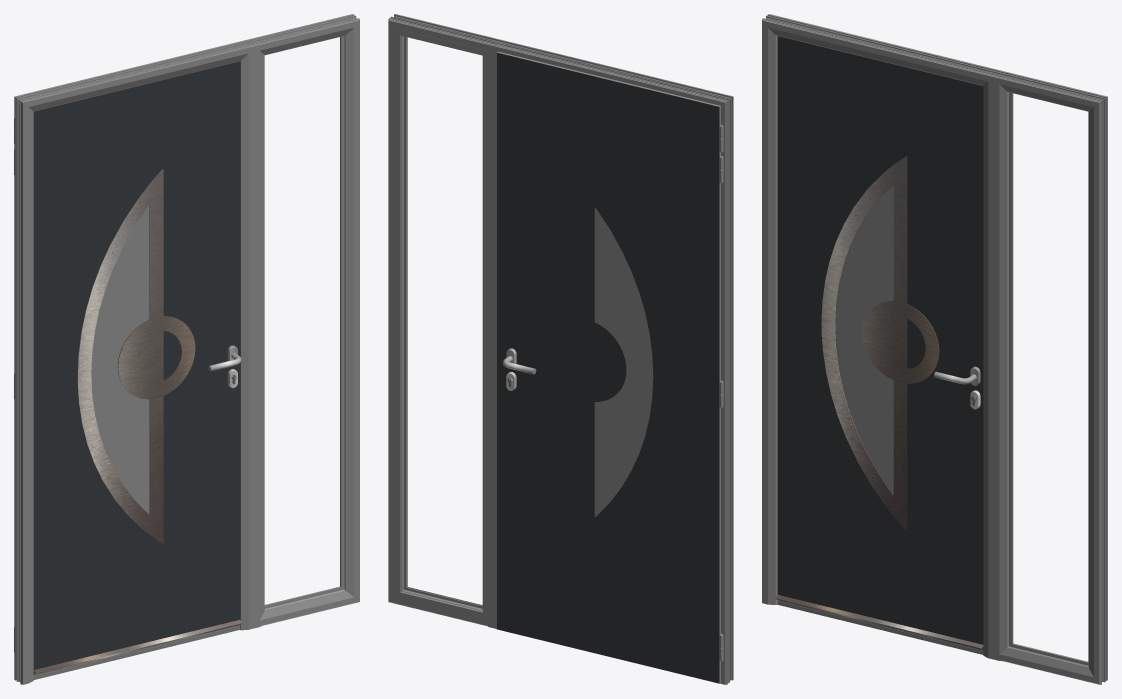
The picture shows the model from 3 angles, left to right: view 1: azimuth 30°, elevation 25°; view 2: azimuth 150°, elevation 25°; view 3: azimuth 330°, elevation 25°; orthographic projection.
Visible parts, largest first — view 1: bloco_158, Rectangle002, Line004, alunox_094, Vidro Porta, Object, Object001, Line005, Rectangle005, Rectangle003; view 2: bloco_158, Rectangle002, Vidro Porta, Rectangle003, Line004, Object001, Rectangle004, Object; view 3: bloco_158, Rectangle002, Line004, alunox_094, Vidro Porta, Object001, Object, Line005, Rectangle003, Rectangle005.
Boxes of the visible parts, bbox=[...] form: bloco_158: bbox=[33, 61, 240, 671]; Rectangle002: bbox=[14, 14, 359, 684]; Line004: bbox=[240, 46, 264, 630]; alunox_094: bbox=[77, 169, 195, 543]; Vidro Porta: bbox=[91, 205, 149, 513]; Object: bbox=[33, 35, 346, 680]; Object001: bbox=[264, 36, 344, 608]; Line005: bbox=[33, 620, 242, 674]; Rectangle005: bbox=[33, 625, 240, 679]; Rectangle003: bbox=[264, 37, 340, 605]; bloco_158: bbox=[497, 52, 719, 683]; Rectangle002: bbox=[388, 14, 733, 684]; Vidro Porta: bbox=[594, 207, 653, 516]; Rectangle003: bbox=[394, 28, 487, 619]; Line004: bbox=[488, 41, 504, 628]; Object001: bbox=[401, 36, 482, 610]; Rectangle004: bbox=[496, 51, 720, 683]; Object: bbox=[404, 36, 482, 608]; bloco_158: bbox=[777, 36, 983, 644]; Rectangle002: bbox=[762, 14, 1107, 684]; Line004: bbox=[983, 77, 1007, 661]; alunox_094: bbox=[821, 156, 939, 531]; Vidro Porta: bbox=[835, 186, 893, 494]; Object001: bbox=[1007, 92, 1088, 665]; Object: bbox=[776, 35, 1088, 667]; Line005: bbox=[775, 595, 983, 649]; Rectangle003: bbox=[1012, 93, 1087, 662]; Rectangle005: bbox=[777, 600, 983, 654].
Size of the model in its own units: 1307 by 2150 by 192.
Materials: 7 (4 with a texture image).
